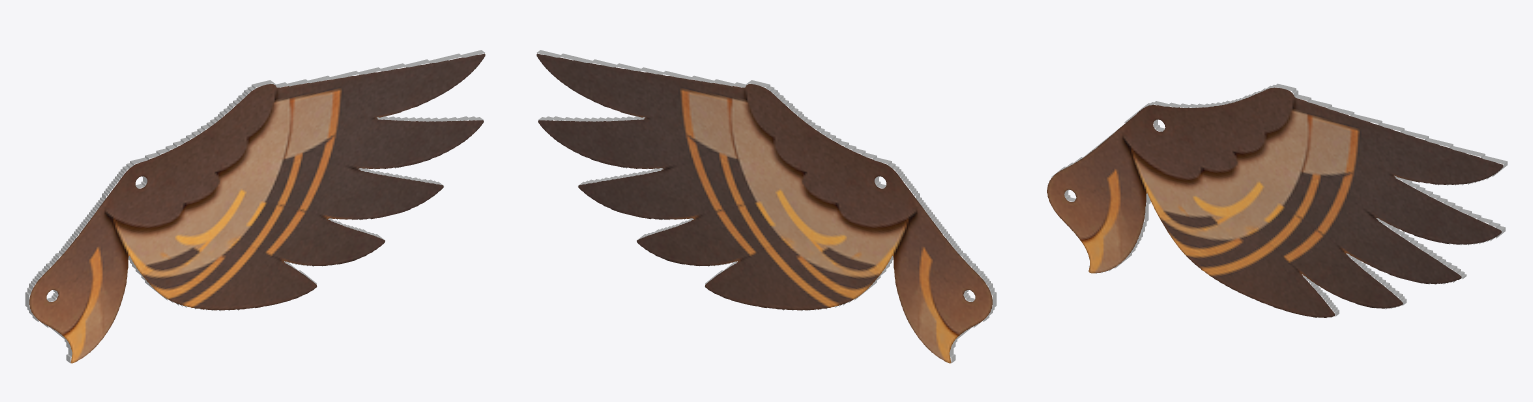
The model's file is FanRight.glb.
The picture shows the model from 3 angles, left to right: view 1: azimuth 30°, elevation 25°; view 2: azimuth 150°, elevation 25°; view 3: azimuth 330°, elevation 25°; orthographic projection.
Parts seen in each view (by area): view 1: PaperVolume; view 2: PaperVolume; view 3: PaperVolume.
Part boxes in pixels (bbox=[...]): PaperVolume: bbox=[25, 50, 485, 363]; PaperVolume: bbox=[536, 50, 996, 363]; PaperVolume: bbox=[1047, 83, 1507, 317].
Bounding box in the file's own units: 5.34 × 2.71 × 0.08.
Materials: 3 (2 with a texture image).
